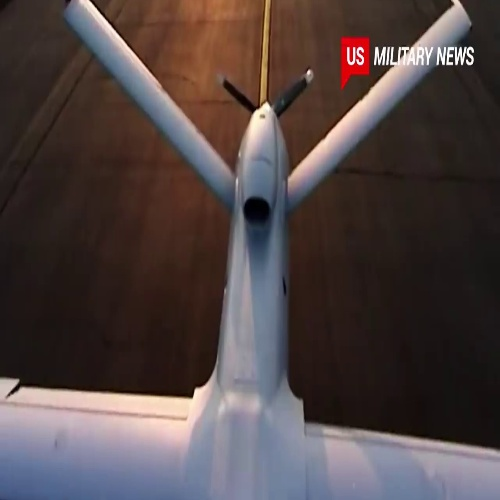uav: (10, 2, 499, 500)
